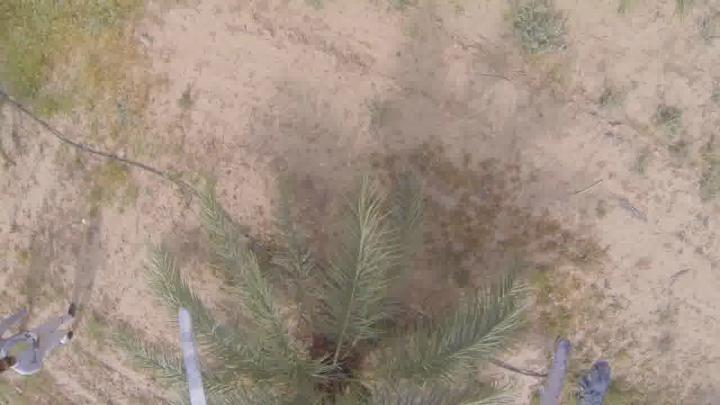Date-Palm-Crown: (212, 299, 439, 405)
